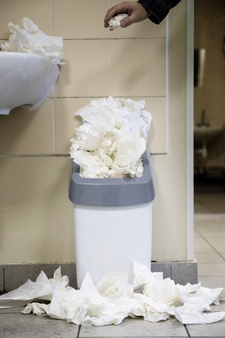Tissue: (68, 94, 154, 180)
